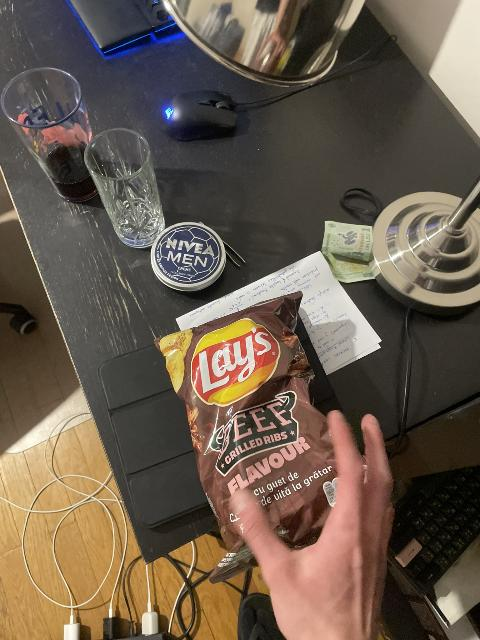Lays Beef Grilled Ribs 125g: (158, 291, 355, 580)
